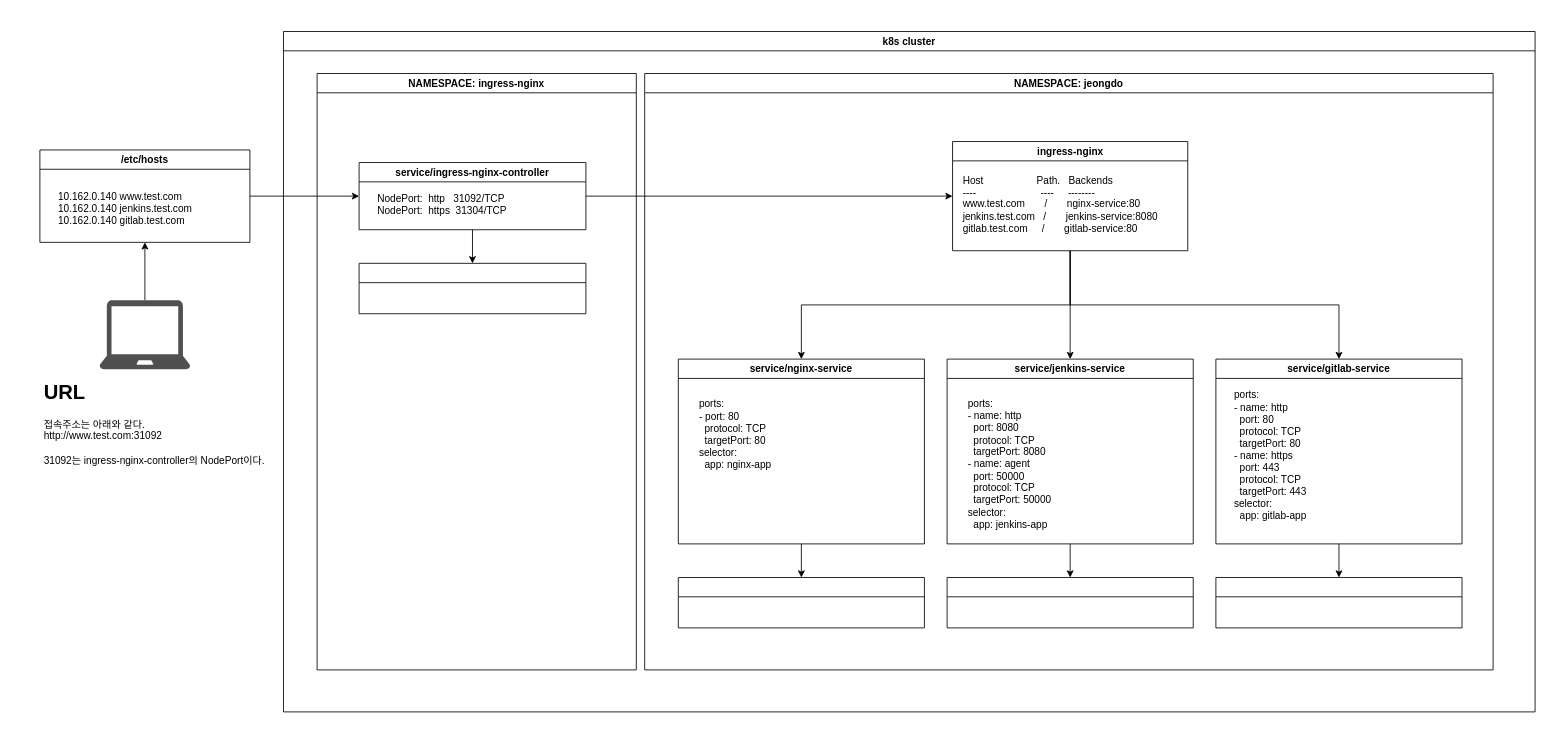
This 1566x743 diagram has some shape labels left out. Here are the shapes that lost their labels. From the top down, the centre of each, then its label:
At point 472,288: "deployment.apps/ingress-nginx-controller".
At point 800,602: "deployment.apps/nginx-deployment".
At point 1069,602: "deployment.apps/jenkins-deployment".
At point 1338,602: "deployment.apps/gitlab-deployment".
